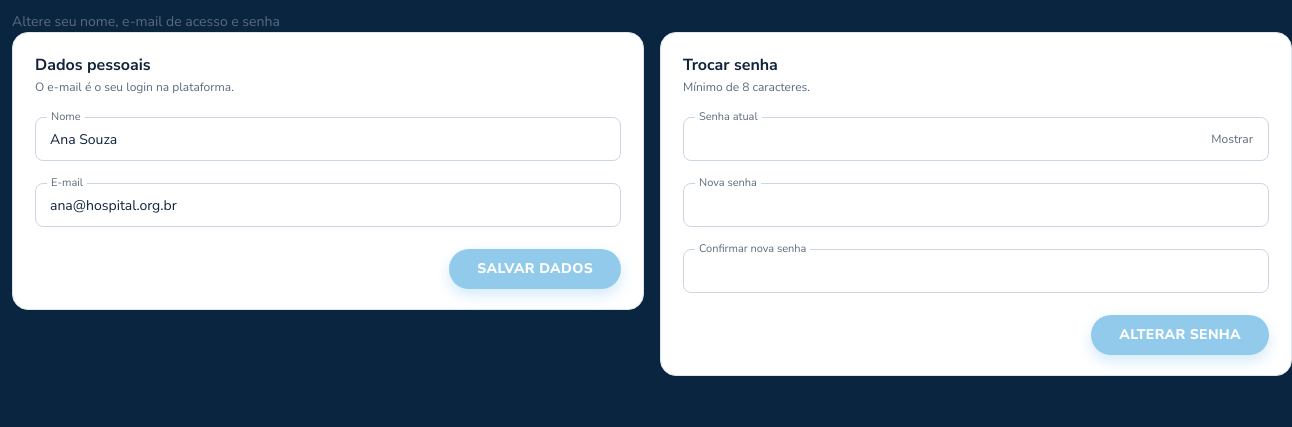
Scenario: Minha conta: trocar senha › recusa: atual=segredo123 nova=novasenha1 confirma=novasenha2
Type "segredo123" into the password field next to "Senha atual" at (976, 139), box x1=683 y1=117 x2=1269 y2=161
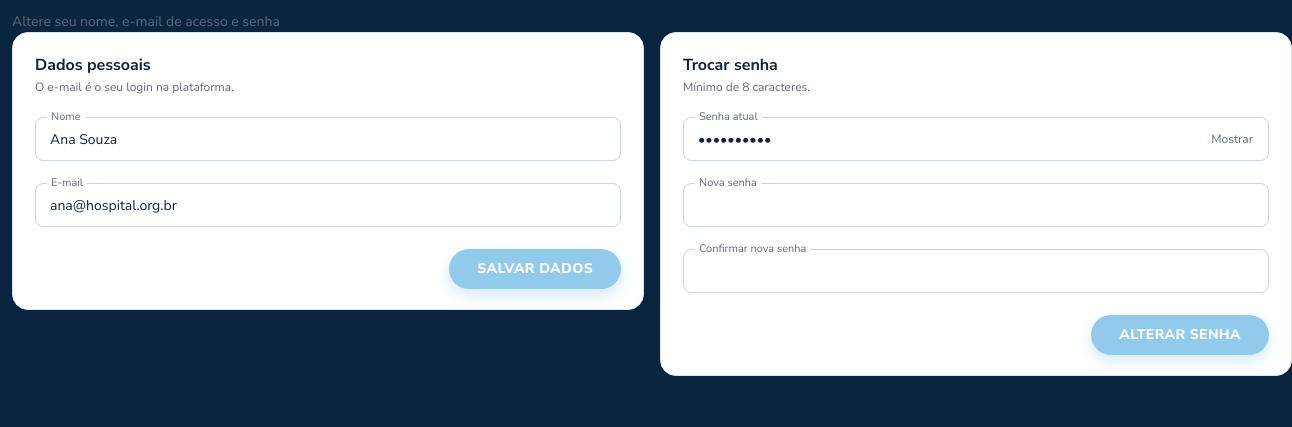
Type "novasenha1" into the 2nd password field at (976, 205), box x1=683 y1=183 x2=1269 y2=227
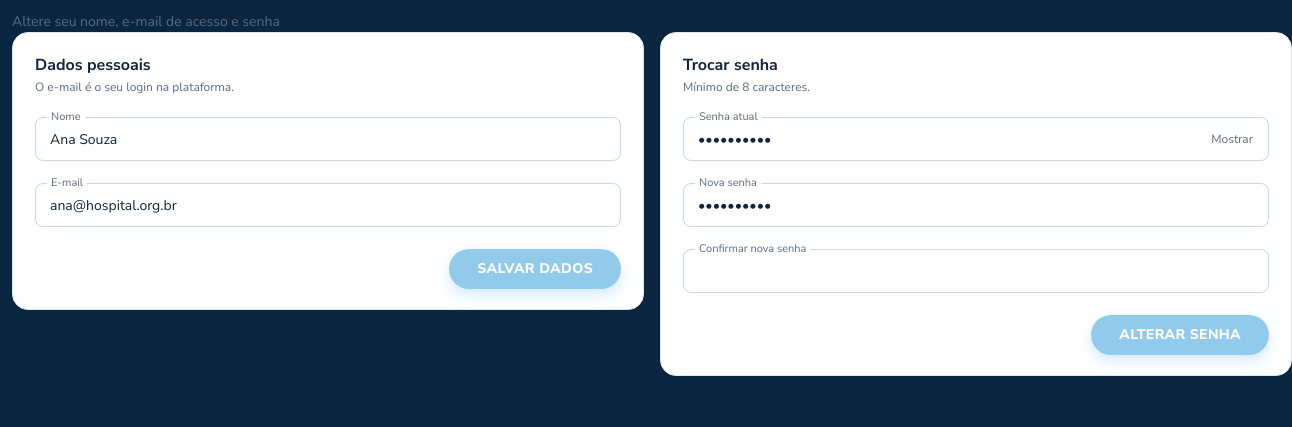
Type "novasenha2" into the password field next to "Confirmar nova senha" at (976, 271), box x1=683 y1=249 x2=1269 y2=293
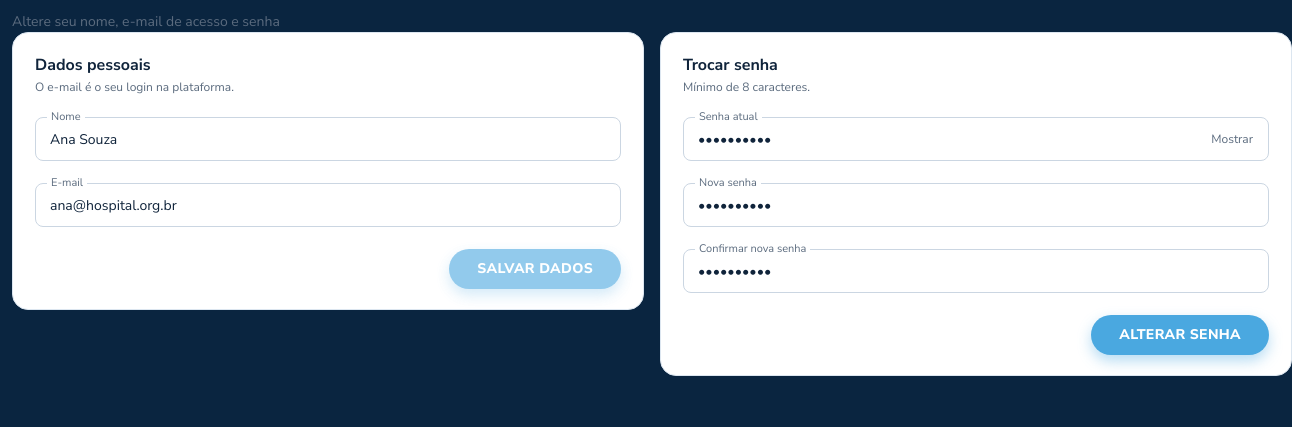
Click the button "ALTERAR SENHA" at (1180, 335), box x1=1091 y1=315 x2=1269 y2=355
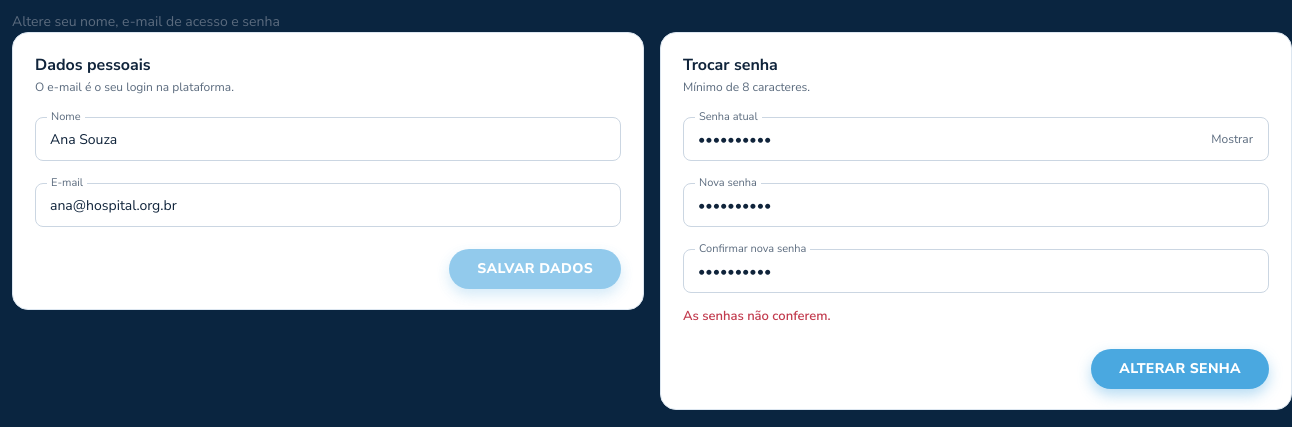
Result: the text "As senhas não conferem." is shown at x1=683 y1=307 x2=830 y2=325
